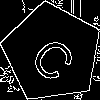C: (27, 28, 86, 86)
